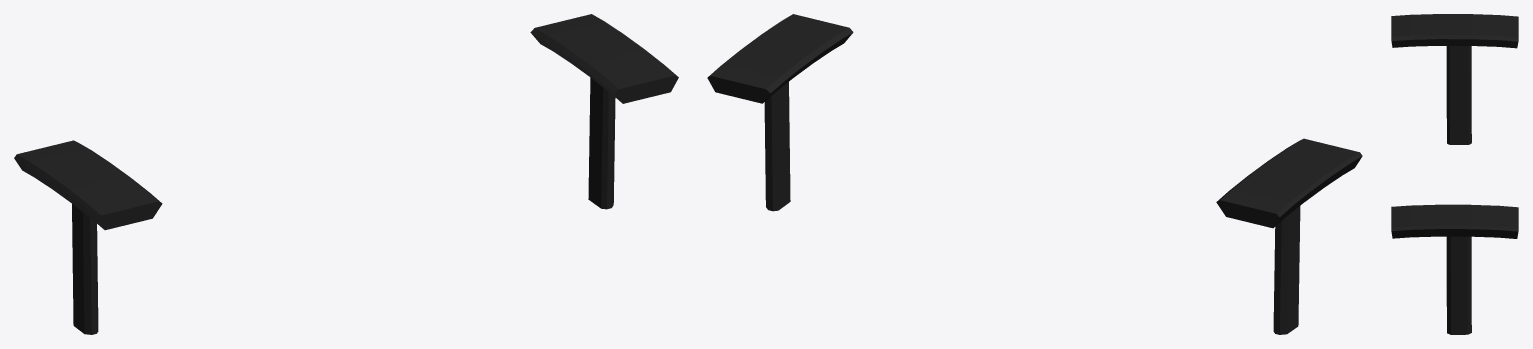
File: Gaming_Chair_Arms_1.obj
3 renders of one model, left to right at view 1: azimuth 30°, elevation 25°; view 2: azimuth 150°, elevation 25°; view 3: azimuth 270°, elevation 25°, orthographic. The views are drawn at different scales.
Visible parts, largest first — view 1: Gaming_Chair_Arms_1; view 2: Gaming_Chair_Arms_1; view 3: Gaming_Chair_Arms_1.
Part boxes in pixels (<box>): Gaming_Chair_Arms_1: <box>14,14,678,334</box>; Gaming_Chair_Arms_1: <box>707,14,1362,334</box>; Gaming_Chair_Arms_1: <box>1391,14,1518,334</box>.
Bounding box in the file's own units: 0.7312 × 0.1877 × 0.1844.
